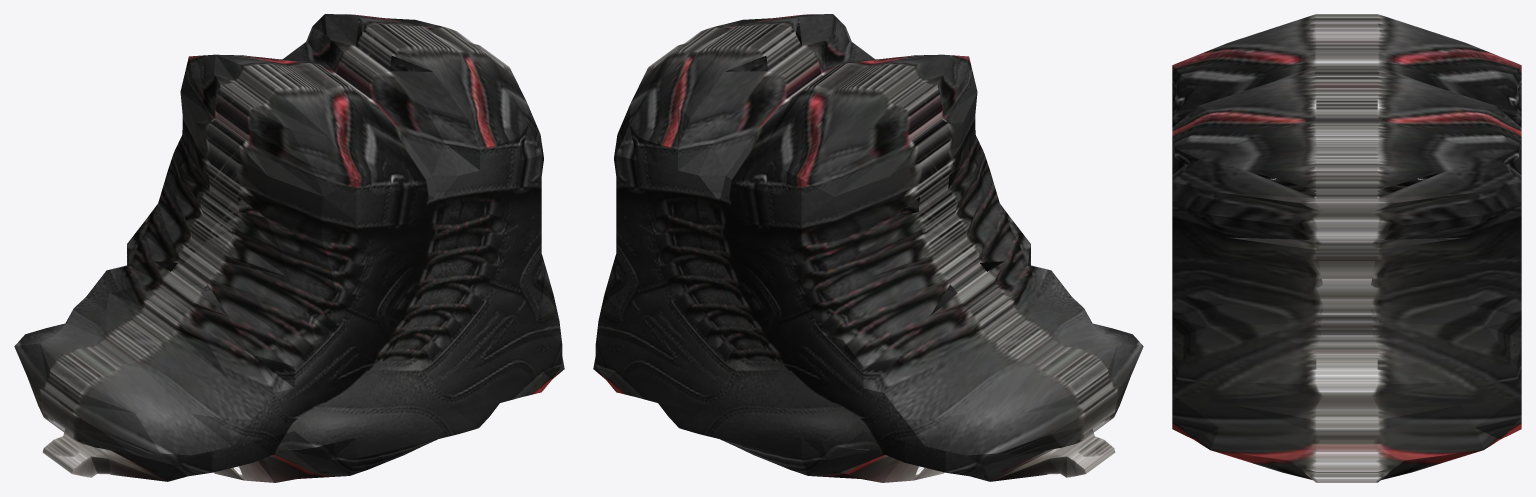
The model's file is alpinestars-apex-adventure-boot-127.glb.
3 renders of one model, left to right at view 1: azimuth 30°, elevation 25°; view 2: azimuth 150°, elevation 25°; view 3: azimuth 270°, elevation 25°, orthographic. The views are drawn at different scales.
Parts seen in each view (by area): view 1: world; view 2: world; view 3: world.
Boxes of the visible parts, <box> form: world: <box>14,14,564,482</box>; world: <box>593,14,1143,482</box>; world: <box>1172,14,1521,482</box>.
Bounding box in the file's own units: 1 × 0.7947 × 0.62.
1 material, 1 textured.
